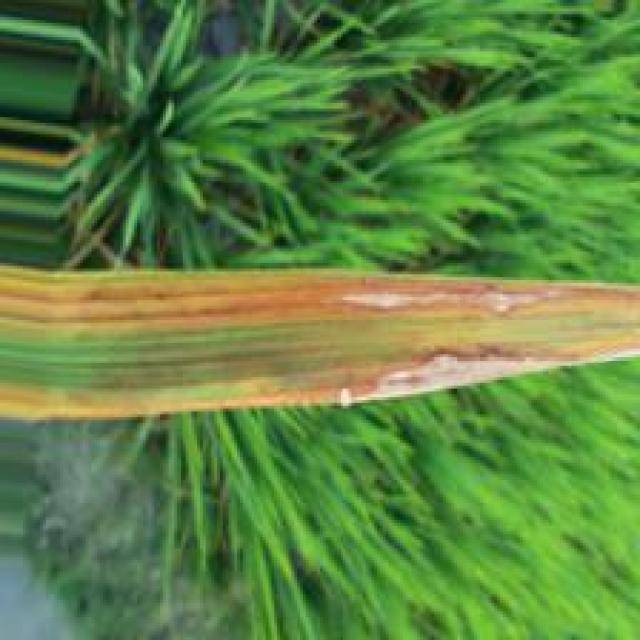Bacterial_Leaf_Blight: (0, 258, 640, 421)
